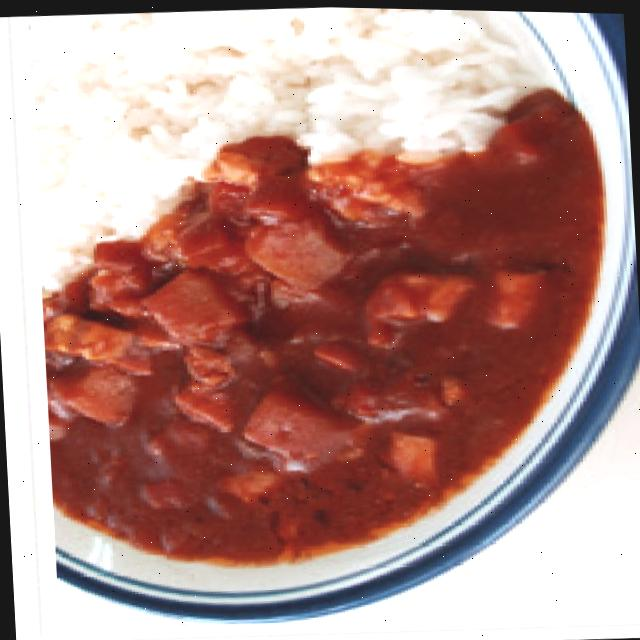牛肉菜式: (30, 1, 640, 636)
